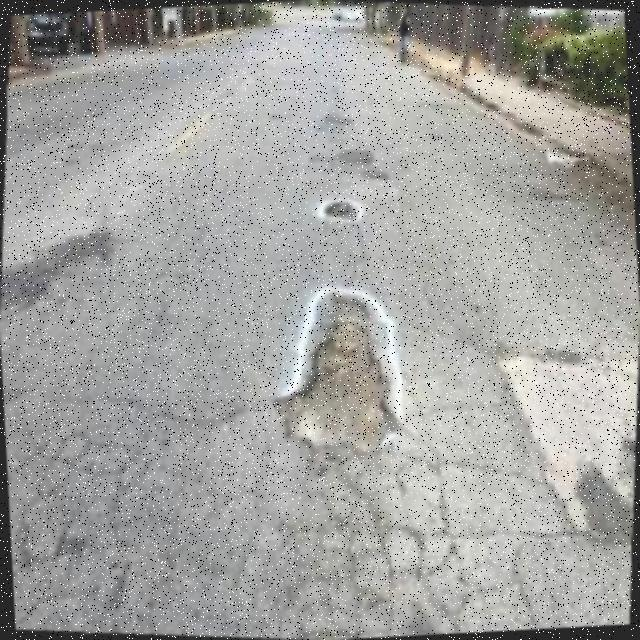Pothole: (286, 321, 401, 453), (320, 197, 365, 221)
